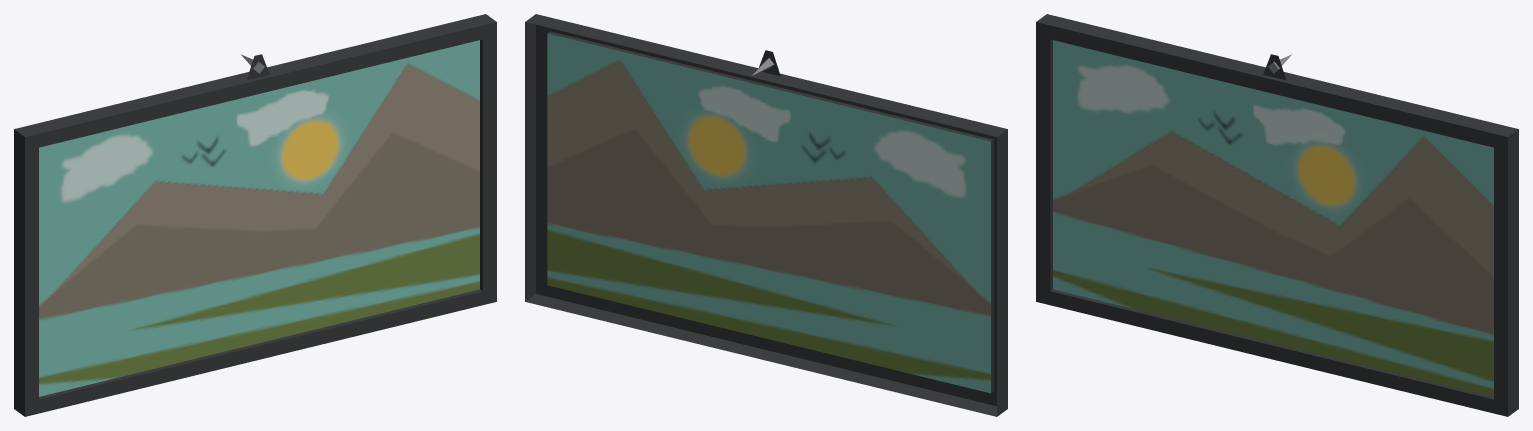
Rendered from Paint_1.fbx.
The picture shows the model from 3 angles, left to right: view 1: azimuth 30°, elevation 25°; view 2: azimuth 150°, elevation 25°; view 3: azimuth 330°, elevation 25°; orthographic projection.
Parts seen in each view (by area): view 1: polySurface1519; view 2: polySurface1519; view 3: polySurface1519.
Boxes of the visible parts, <box> form: polySurface1519: <box>14,14,496,416</box>; polySurface1519: <box>525,14,1007,416</box>; polySurface1519: <box>1036,14,1518,416</box>.
Size of the model in its own units: 150 by 91.83 by 11.26.
